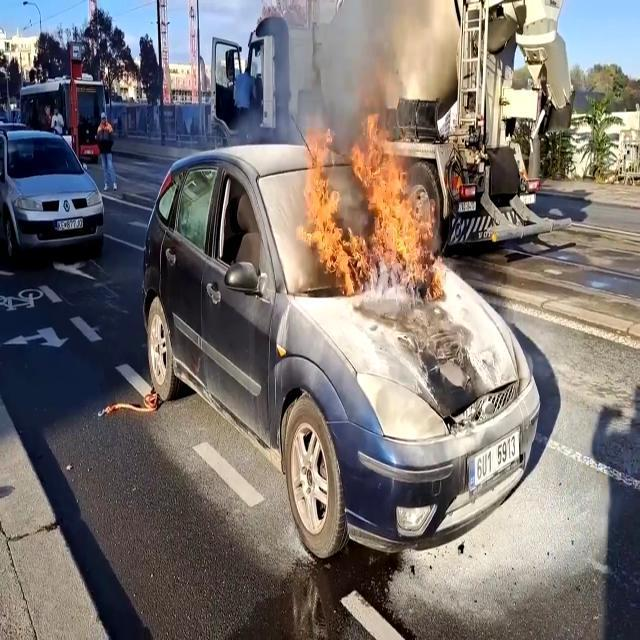Fire: (301, 118, 446, 310)
Smoke: (281, 0, 440, 153)
